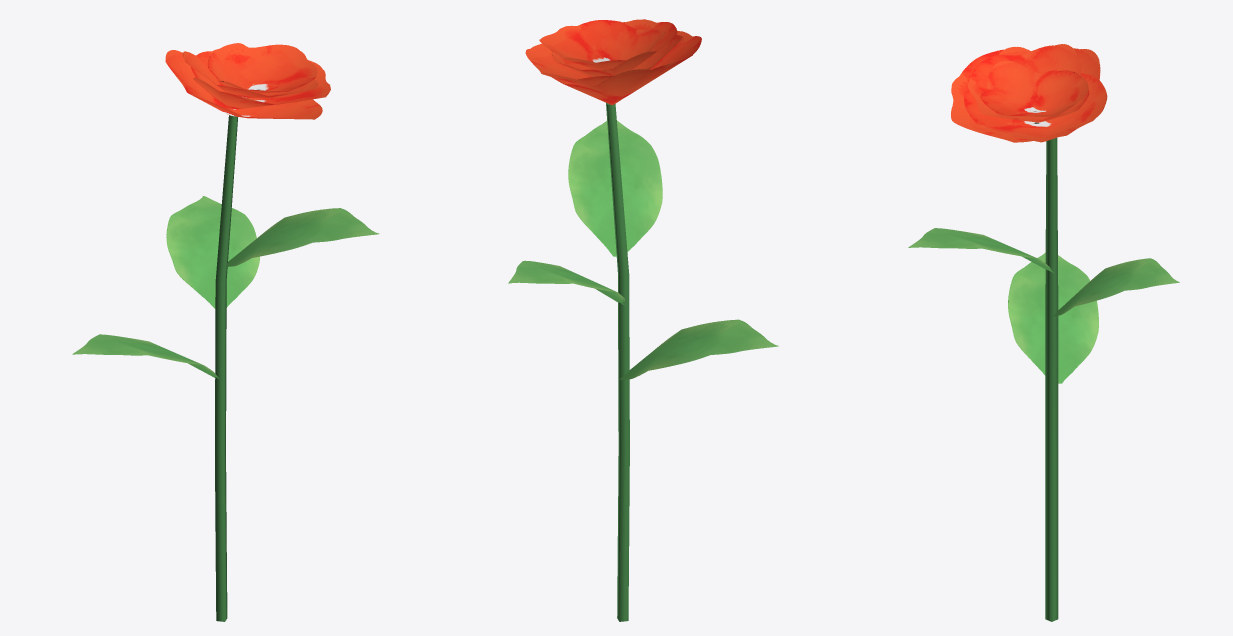
File: SM_flower_rose.fbx
3 views of the same model, side by side, from view 1: azimuth 30°, elevation 25°; view 2: azimuth 150°, elevation 25°; view 3: azimuth 270°, elevation 25° (orthographic). The views are drawn at different scales.
Visible parts, largest first — view 1: Line002; view 2: Line002; view 3: Line002.
Part boxes in pixels (left/top/right/bottom): Line002: left=72, top=43, right=379, bottom=621; Line002: left=508, top=19, right=778, bottom=621; Line002: left=908, top=44, right=1179, bottom=621.
Size of the model in its own units: 17.39 by 30.16 by 17.47.
